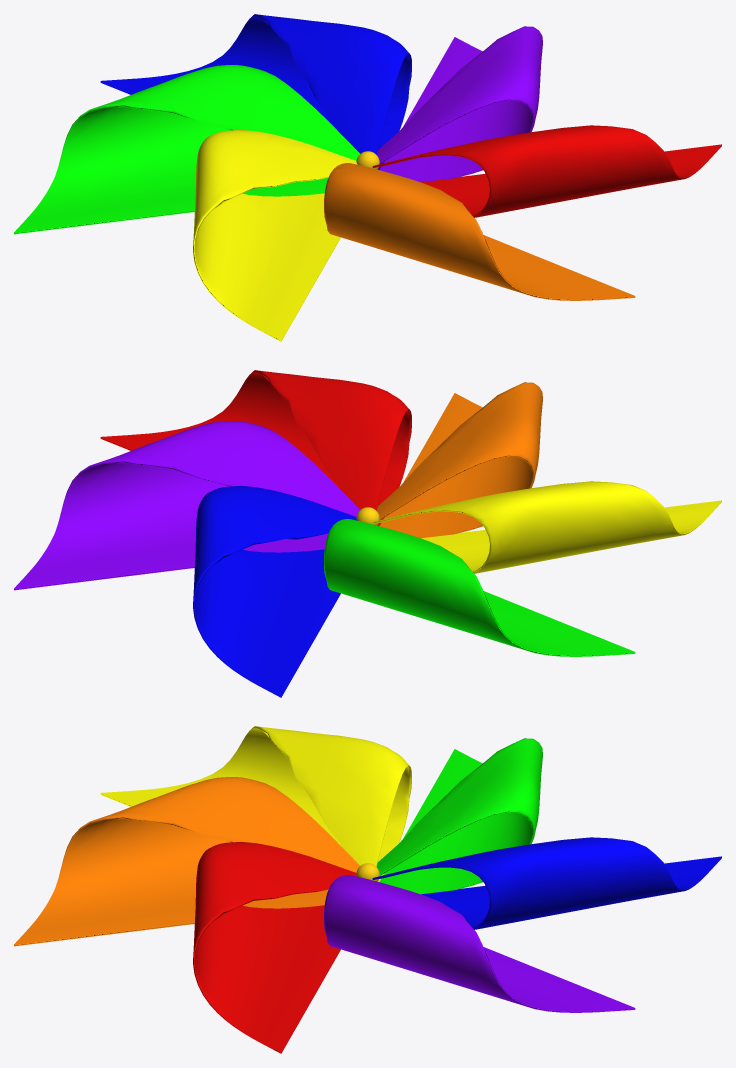
Rendered from girandola2_LOD1.fbx.
3 views of the same model, one above another, from view 1: azimuth 30°, elevation 25°; view 2: azimuth 150°, elevation 25°; view 3: azimuth 270°, elevation 25° (orthographic).
Parts seen in each view (by area): view 1: Girandole; view 2: Girandole; view 3: Girandole.
Part boxes in pixels (box(x1,y1,x2,y2)): Girandole: box(14, 14, 721, 341); Girandole: box(14, 370, 721, 697); Girandole: box(14, 726, 721, 1053).
Size of the model in its own units: 6670 by 1312 by 6583.
